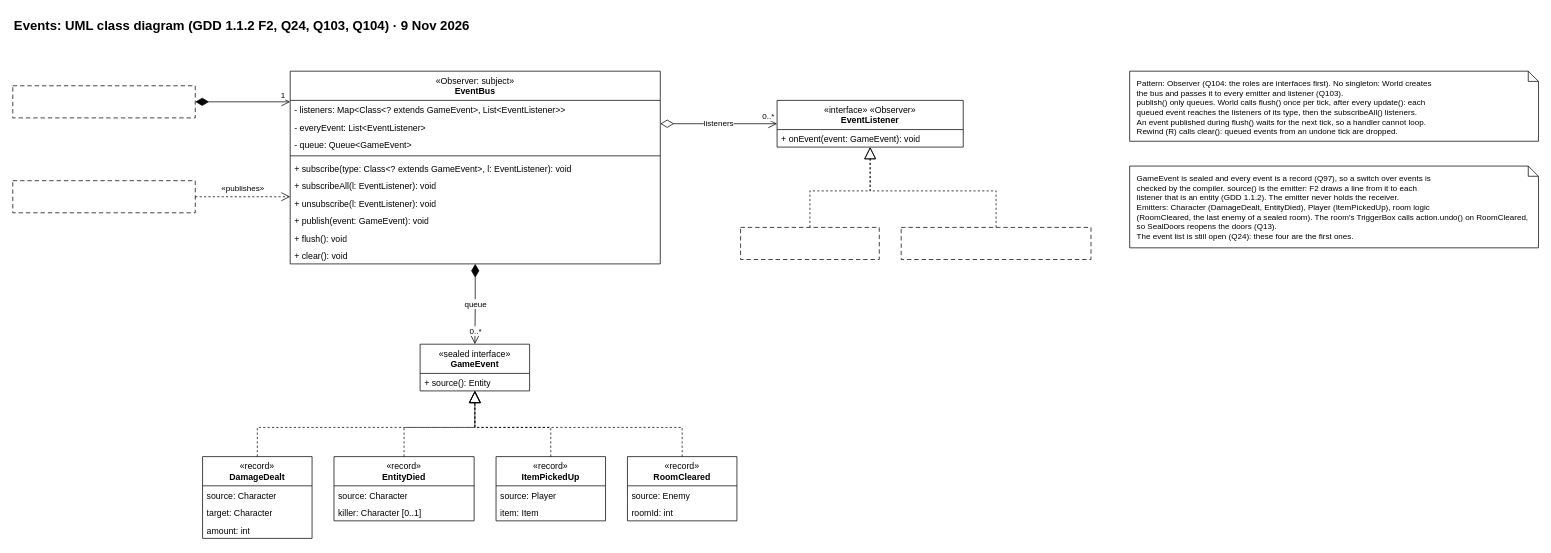
Image size: 1551x553. Some labels were removed from this diagram. Each missing label, with the centre of its shape:
Character entity · page Entities: the point at 103,196
EventLaser debug · F2 · implements DebugFeature: the point at 995,243
TriggerBox entity · page Entities: the point at 809,243
World engine · owns the bus, one per run: the point at 103,101
